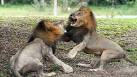lion: (64, 5, 126, 73), (10, 17, 66, 77)
